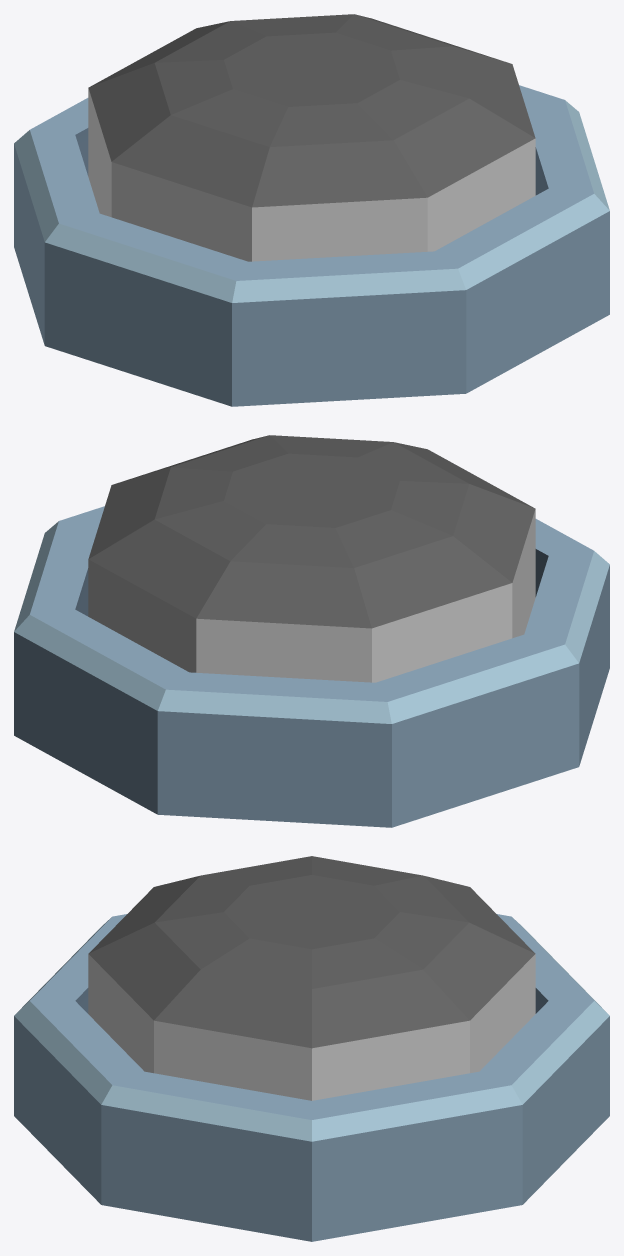
File: greybutton.glb
3 renders of one model, top to bottom at view 1: azimuth 30°, elevation 25°; view 2: azimuth 150°, elevation 25°; view 3: azimuth 270°, elevation 25°, orthographic. The views are drawn at different scales.
Parts seen in each view (by area): view 1: Base_Button, Button; view 2: Base_Button, Button; view 3: Base_Button, Button.
Part boxes in pixels (x1=…): Base_Button: x1=14, y1=85, x2=609, y2=406; Button: x1=88, y1=14, x2=535, y2=261; Base_Button: x1=14, y1=506, x2=609, y2=827; Button: x1=88, y1=435, x2=535, y2=682; Base_Button: x1=14, y1=914, x2=609, y2=1241; Button: x1=88, y1=856, x2=535, y2=1100.
Size of the model in its own units: 0.5393 by 0.2035 by 0.5393.
Materials: 1 (1 with a texture image).
